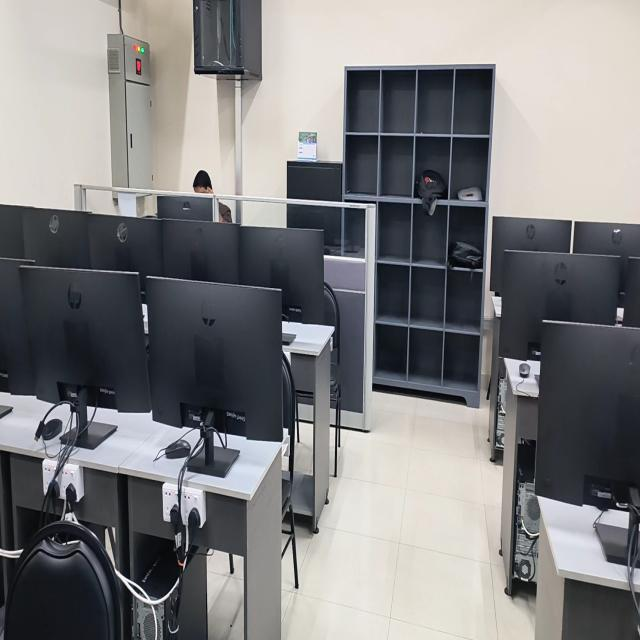Chair: (4, 521, 121, 639), (281, 351, 299, 588), (324, 282, 341, 477)
Cpu: (136, 539, 208, 639), (515, 443, 539, 581)
Monitor: (146, 277, 283, 477), (535, 321, 640, 568), (20, 265, 150, 449), (499, 251, 621, 360), (238, 228, 326, 324), (86, 214, 162, 302), (490, 216, 571, 293), (572, 222, 640, 307), (162, 219, 240, 283), (0, 258, 35, 395), (22, 208, 90, 268), (0, 204, 25, 257), (157, 196, 211, 219), (623, 258, 640, 327)
Mouse: (164, 439, 190, 458), (41, 418, 62, 440), (519, 363, 530, 378)
